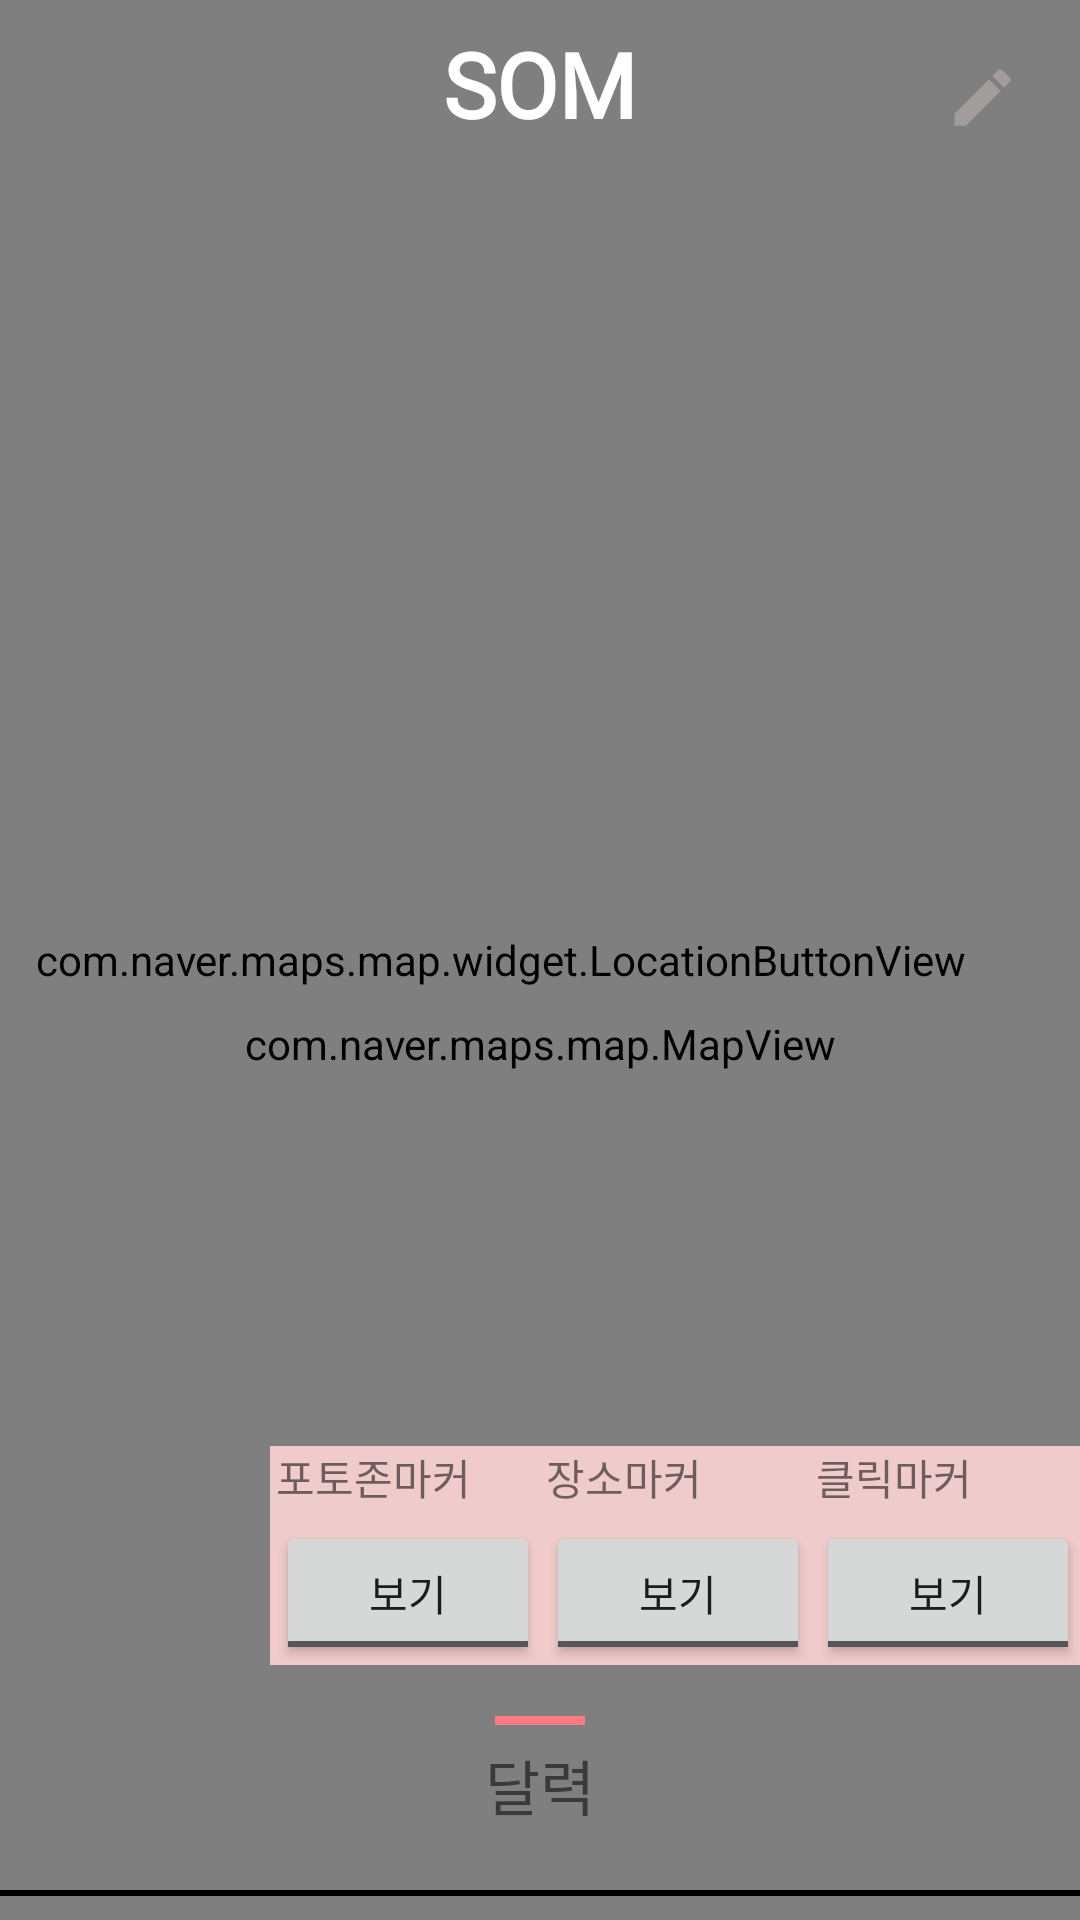

Point at icon controls on the screen. Image size 1080 x 1920, points as point (x, y).
edit: point (982, 98)
